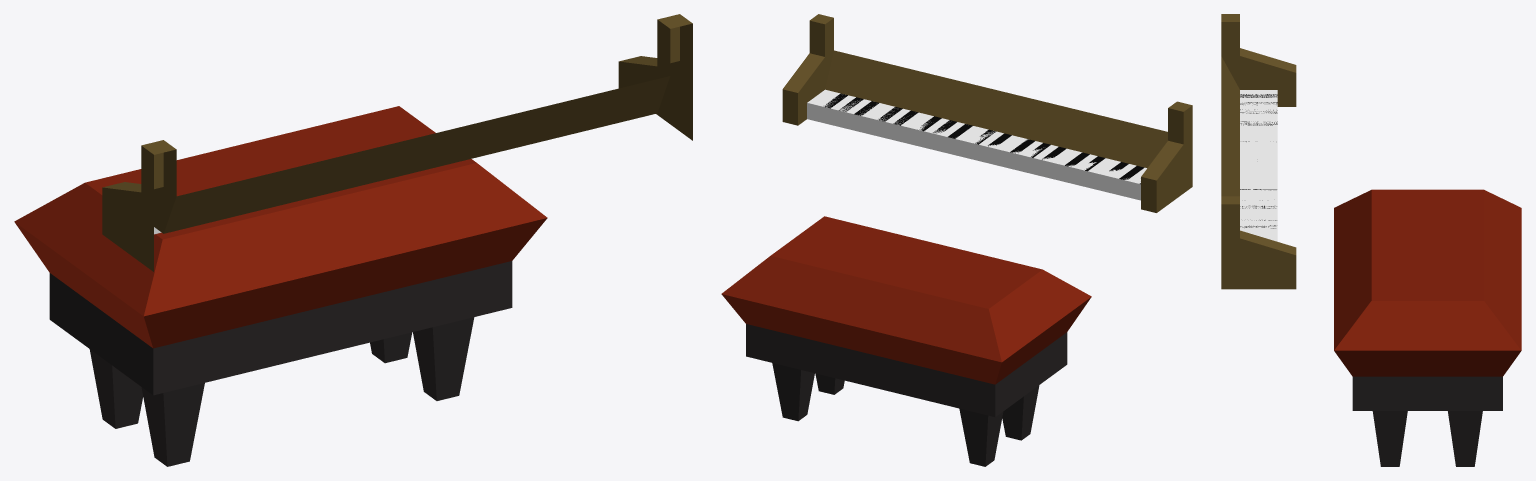
Rendered from obj_piano_stool_0.obj.
The picture shows the model from 3 angles, left to right: view 1: azimuth 30°, elevation 25°; view 2: azimuth 150°, elevation 25°; view 3: azimuth 270°, elevation 25°; orthographic projection. The views are drawn at different scales.
Bounding box in the file's own units: 1.5 × 1.12 × 1.
